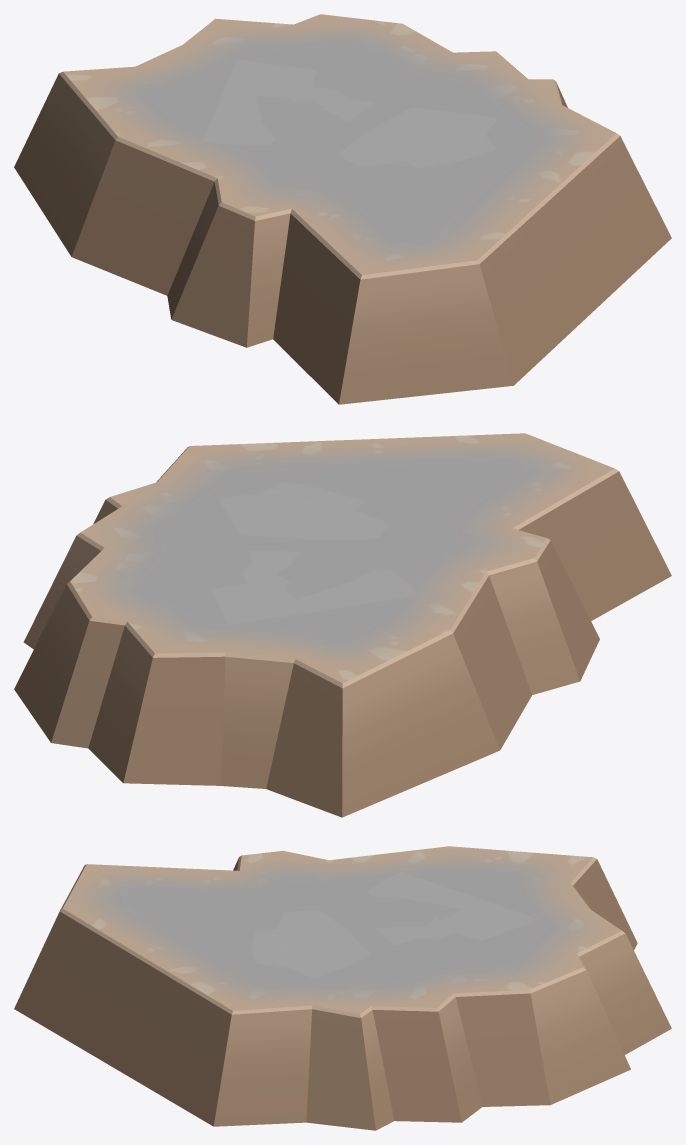
The model's file is Terrain.fbx.
3 views of the same model, one above another, from view 1: azimuth 30°, elevation 25°; view 2: azimuth 150°, elevation 25°; view 3: azimuth 270°, elevation 25° (orthographic). The views are drawn at different scales.
Visible parts, largest first — view 1: Terrain_1; view 2: Terrain_1; view 3: Terrain_1.
Boxes of the visible parts, <box> form: Terrain_1: <box>14,14,671,404</box>; Terrain_1: <box>14,433,671,817</box>; Terrain_1: <box>14,846,671,1130</box>.
Size of the model in its own units: 2495 by 537 by 3321.
